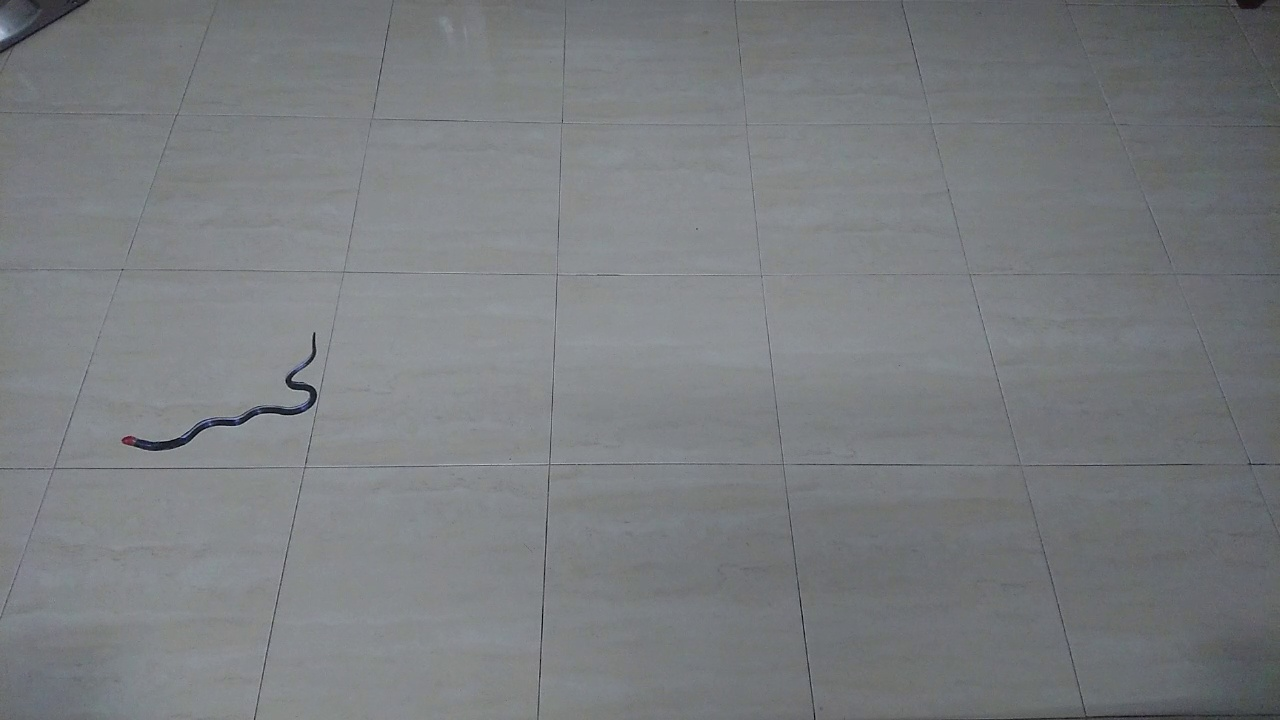snake: (109, 318, 326, 458)
